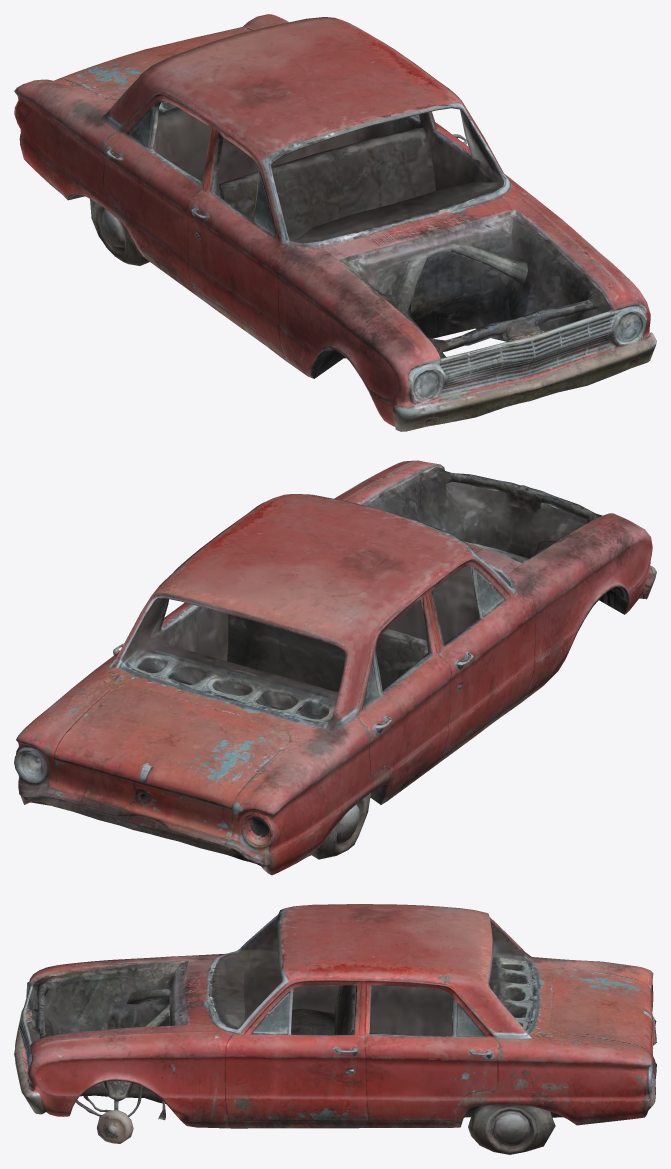
The model's file is destroyed_car.glb.
3 renders of one model, top to bottom at view 1: azimuth 30°, elevation 25°; view 2: azimuth 150°, elevation 25°; view 3: azimuth 270°, elevation 25°, orthographic. The views are drawn at different scales.
Parts seen in each view (by area): view 1: Object_4; view 2: Object_4; view 3: Object_4.
Part boxes in pixels (x1,y1,x2,y2): Object_4: (14, 14, 656, 431); Object_4: (14, 460, 656, 875); Object_4: (14, 904, 656, 1154).
Size of the model in its own units: 11.91 by 9.05 by 30.07.
Materials: 1 (1 with a texture image).
